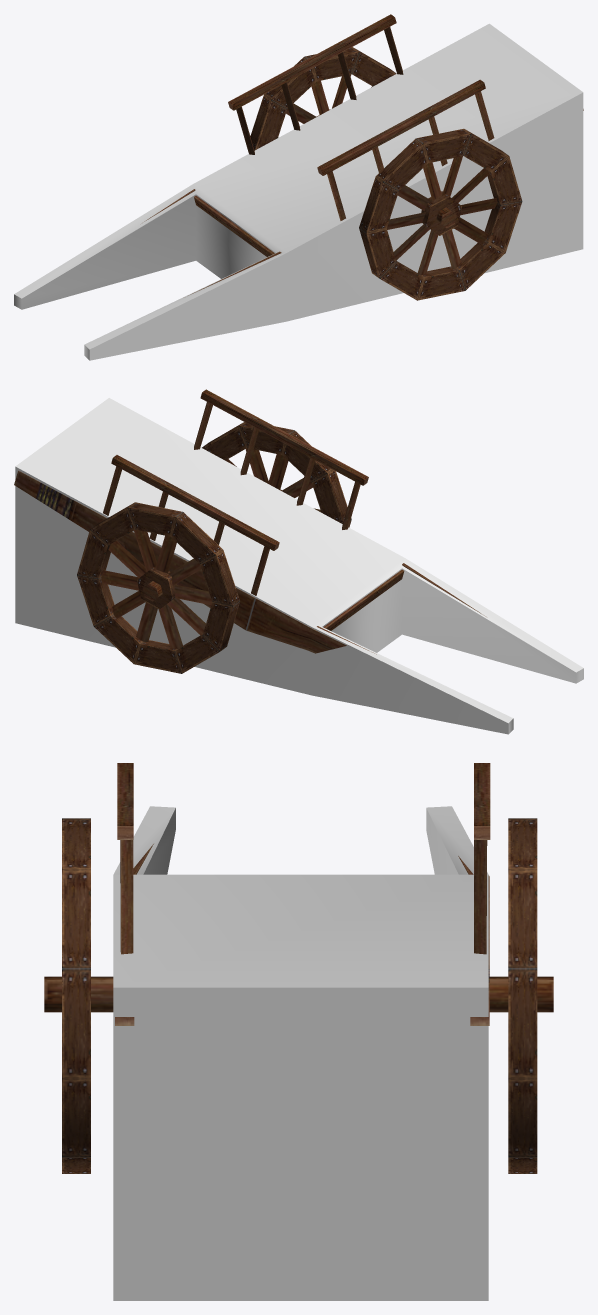
File: YHJ_huoche.FBX
3 renders of one model, top to bottom at view 1: azimuth 30°, elevation 25°; view 2: azimuth 150°, elevation 25°; view 3: azimuth 270°, elevation 25°, orthographic. The views are drawn at different scales.
Parts seen in each view (by area): view 1: YHJ_huoche-col, YHJ_huoche; view 2: YHJ_huoche-col, YHJ_huoche; view 3: YHJ_huoche-col, YHJ_huoche.
Part boxes in pixels (bbox=[...]): YHJ_huoche-col: bbox=[14, 23, 583, 360]; YHJ_huoche: bbox=[144, 14, 583, 300]; YHJ_huoche-col: bbox=[15, 398, 583, 734]; YHJ_huoche: bbox=[14, 389, 485, 673]; YHJ_huoche-col: bbox=[113, 806, 488, 1300]; YHJ_huoche: bbox=[44, 763, 553, 1173].
Size of the model in its own units: 4.87 by 1.84 by 2.21.
